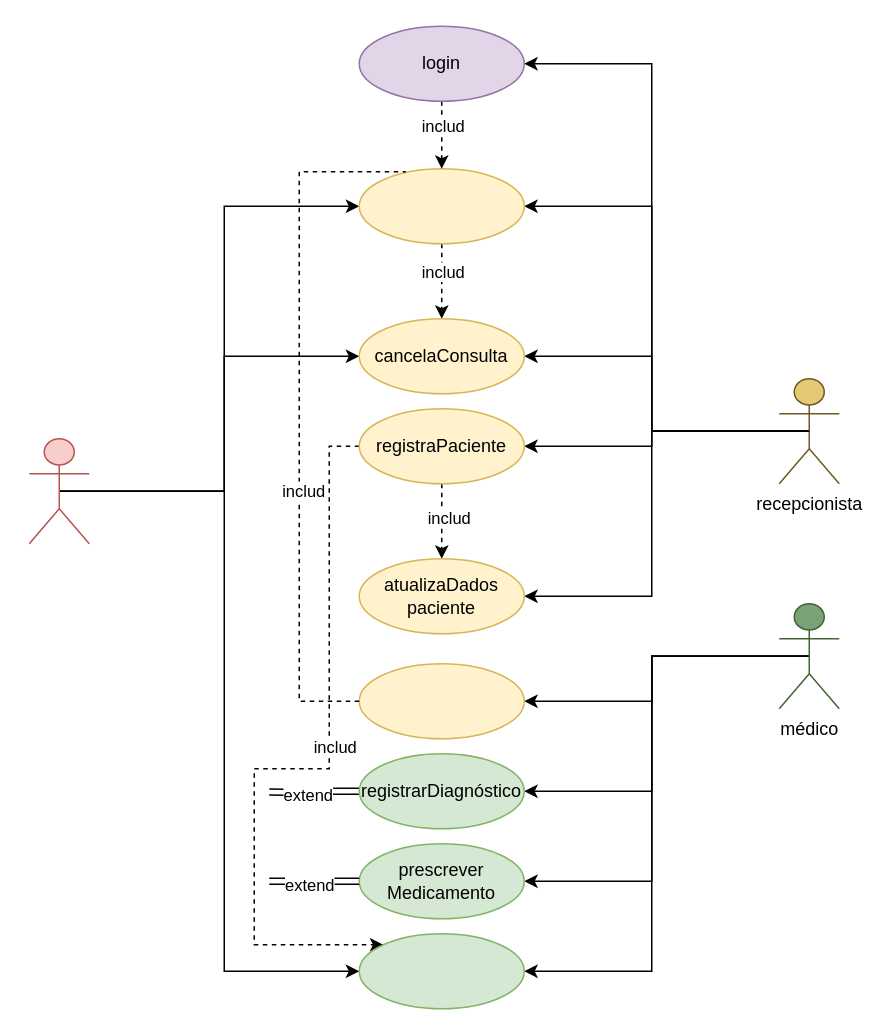
This 888x1035 diagram has some shape labels left out. Here are the shapes that lost their labels. From the top down, the box of each, then its label:
(358, 167, 524, 244): agendarConsulta
(28, 437, 89, 544): paciente
(358, 662, 524, 739): consultarAgenda
(358, 932, 524, 1009): consultarHistórico Paciente
